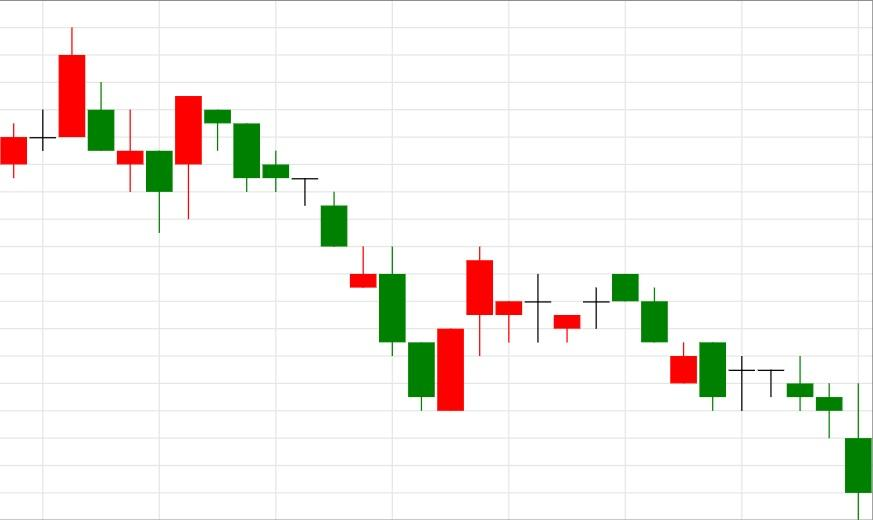bullish_engulfing_rise: (175, 95, 465, 411)
